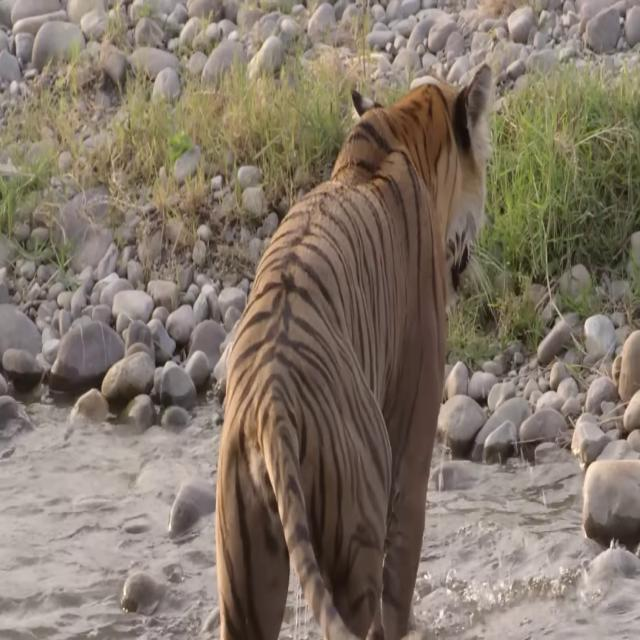tiger: (217, 56, 493, 638)
